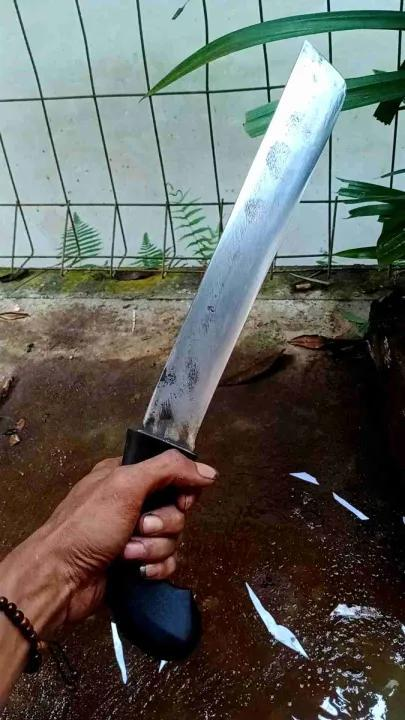facao: (109, 42, 345, 661)
